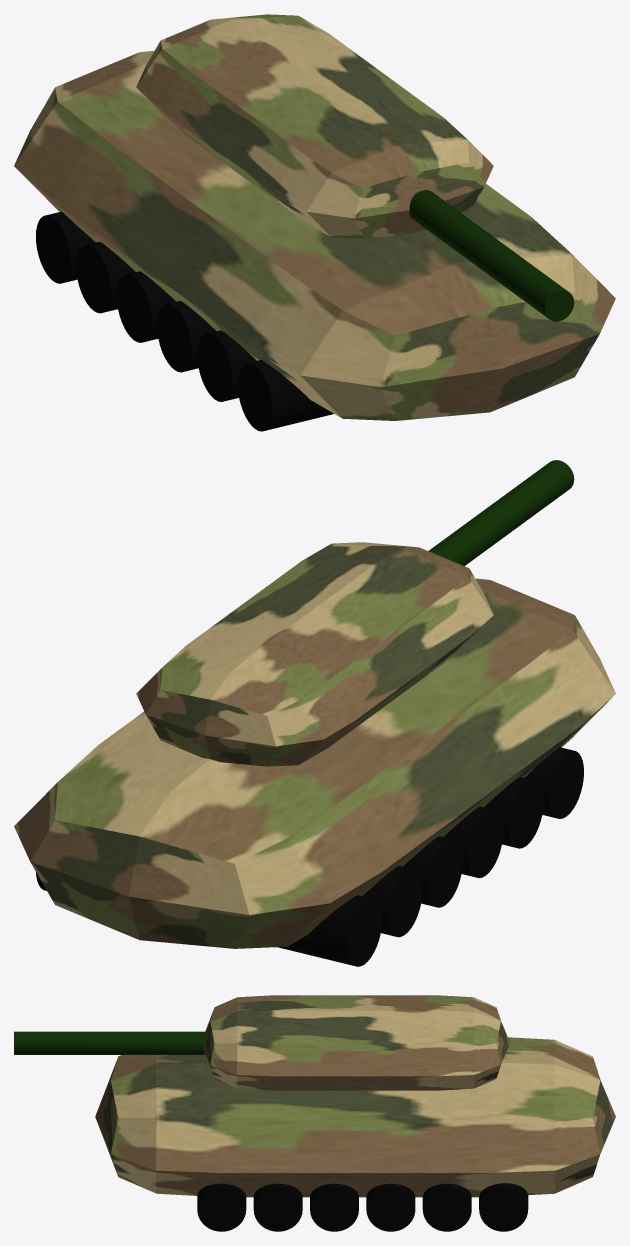
The model's file is Sensya_Teki.fbx.
The picture shows the model from 3 angles, top to bottom: view 1: azimuth 30°, elevation 25°; view 2: azimuth 150°, elevation 25°; view 3: azimuth 270°, elevation 25°; orthographic projection. The views are drawn at different scales.
Visible parts, largest first — view 1: Cube, Cube.001, 円柱, 円柱.001; view 2: Cube, Cube.001, 円柱, 円柱.001; view 3: Cube, Cube.001, 円柱, 円柱.001.
Part boxes in pixels (bbox=[...]): Cube: bbox=[14, 50, 615, 420]; Cube.001: bbox=[136, 14, 493, 238]; 円柱: bbox=[36, 211, 333, 431]; 円柱.001: bbox=[409, 190, 574, 321]; Cube: bbox=[14, 578, 615, 948]; Cube.001: bbox=[136, 542, 493, 766]; 円柱: bbox=[36, 747, 583, 966]; 円柱.001: bbox=[428, 460, 574, 565]; Cube: bbox=[95, 1037, 615, 1197]; Cube.001: bbox=[203, 995, 509, 1090]; 円柱: bbox=[197, 1183, 528, 1231]; 円柱.001: bbox=[14, 1031, 205, 1054].
Bounding box in the file's own units: 178 × 124 × 404.
